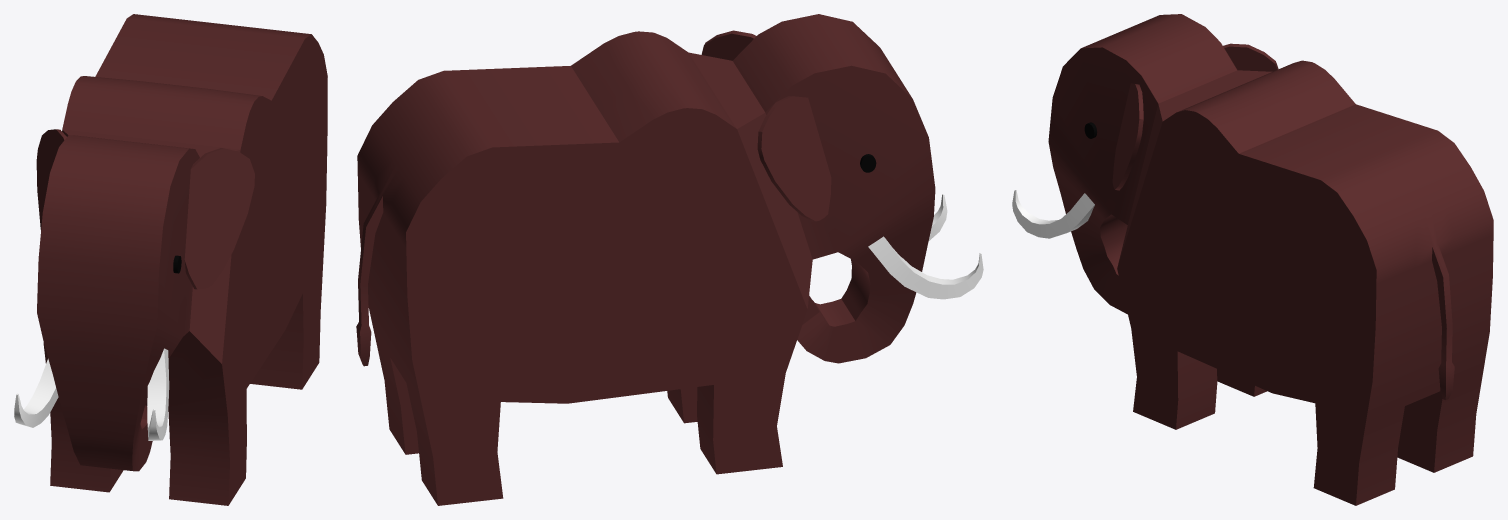
File: mammoth.gltf
3 views of the same model, side by side, from view 1: azimuth 30°, elevation 25°; view 2: azimuth 150°, elevation 25°; view 3: azimuth 270°, elevation 25° (orthographic). The views are drawn at different scales.
Visible parts, largest first — view 1: Plane.134, Plane.135, Cube.6239; view 2: Plane.134, Plane.135, Cube.6239; view 3: Plane.134, Plane.135, Cube.6239.
Boxes of the visible parts, <box> form: Plane.134: <box>37,14,327,505</box>; Plane.135: <box>36,129,254,289</box>; Cube.6239: <box>14,348,169,440</box>; Plane.134: <box>356,14,935,505</box>; Plane.135: <box>701,30,831,221</box>; Cube.6239: <box>868,194,983,299</box>; Plane.134: <box>1048,14,1493,505</box>; Plane.135: <box>1112,43,1278,190</box>; Cube.6239: <box>1012,190,1094,238</box>.
Size of the model in its own units: 2.36 by 1.81 by 2.36.
Materials: 1 (1 with a texture image).
